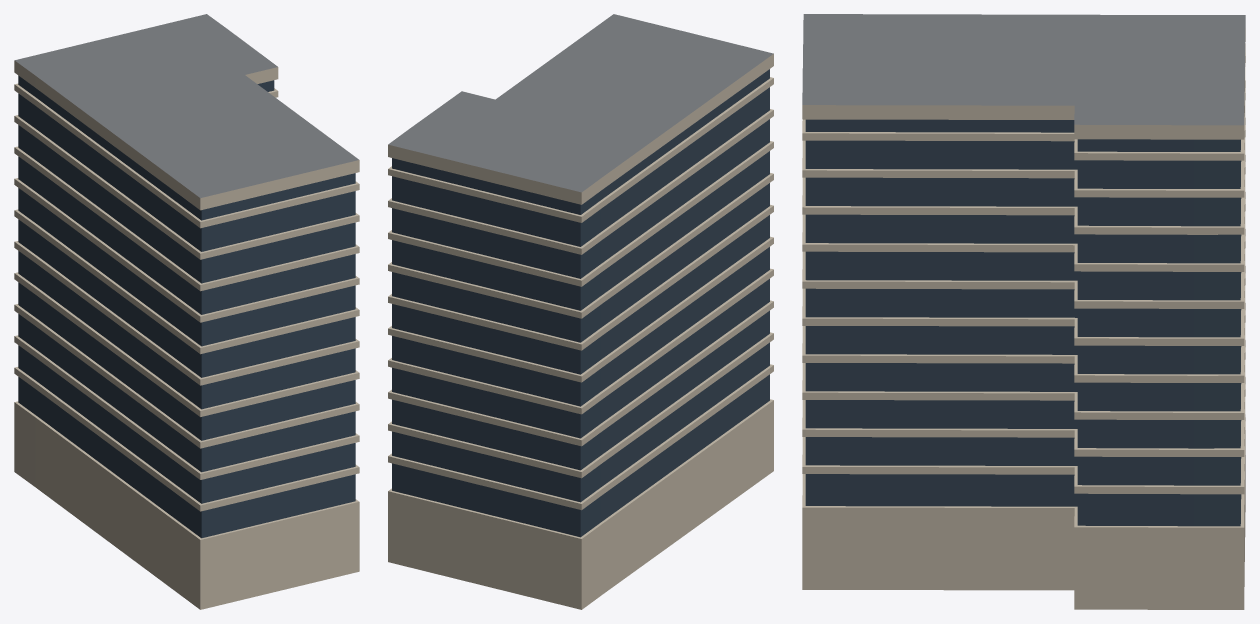
The model's file is bldg_w238249914.glb.
3 views of the same model, side by side, from view 1: azimuth 30°, elevation 25°; view 2: azimuth 150°, elevation 25°; view 3: azimuth 270°, elevation 25° (orthographic). The views are drawn at different scales.
Visible parts, largest first — view 1: Bldg_W238249914; view 2: Bldg_W238249914; view 3: Bldg_W238249914.
Part boxes in pixels (bbox=[...]): Bldg_W238249914: bbox=[14, 14, 359, 609]; Bldg_W238249914: bbox=[388, 14, 773, 609]; Bldg_W238249914: bbox=[802, 14, 1245, 609].
Bounding box in the file's own units: 23.18 × 47.1 × 39.04.
